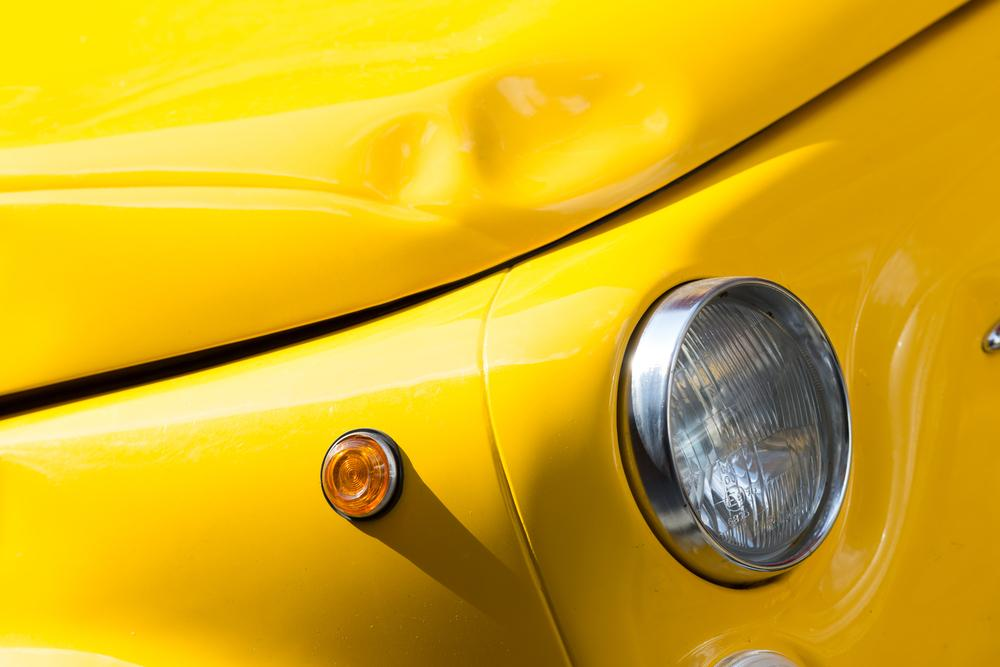dent: (357, 62, 688, 238)
